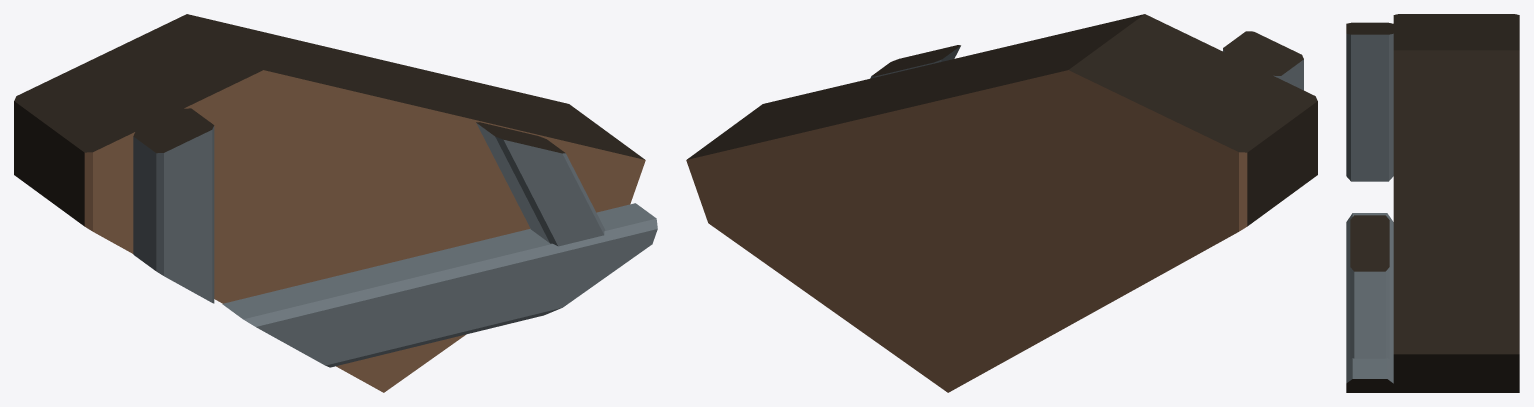
File: SM_DoorShard_02_55.fbx
3 renders of one model, left to right at view 1: azimuth 30°, elevation 25°; view 2: azimuth 150°, elevation 25°; view 3: azimuth 270°, elevation 25°, orthographic. The views are drawn at different scales.
Visible parts, largest first — view 1: SM_DoorShard_02_55; view 2: SM_DoorShard_02_55; view 3: SM_DoorShard_02_55.
Boxes of the visible parts, x1,y1,x2,y2 form: SM_DoorShard_02_55: [14, 14, 657, 392]; SM_DoorShard_02_55: [686, 14, 1317, 392]; SM_DoorShard_02_55: [1346, 14, 1519, 392].
Bounding box in the file's own units: 67.27 × 22 × 40.57.
